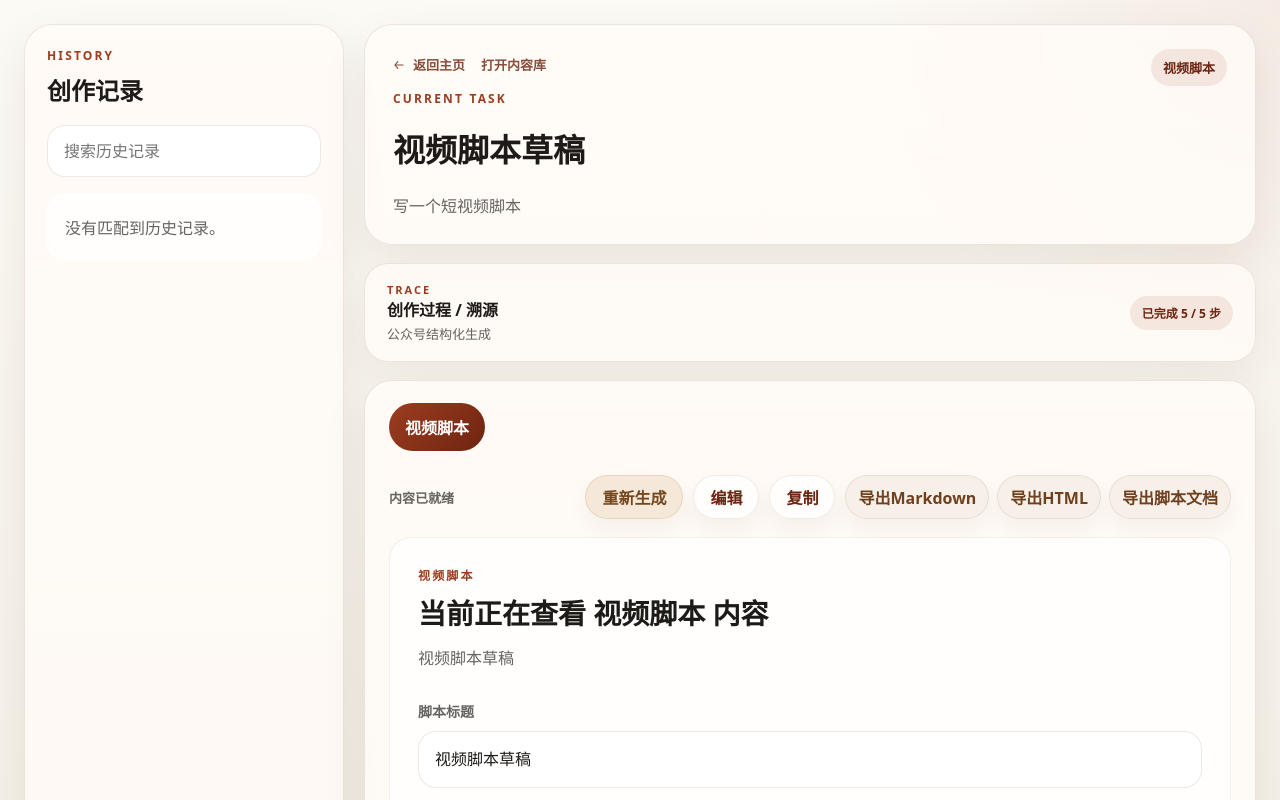
WorkspaceShell › copies video scripts as a table instead of JSON
The image size is (1280, 800).
Click the button "复制": click(802, 497) [770,475,836,519]
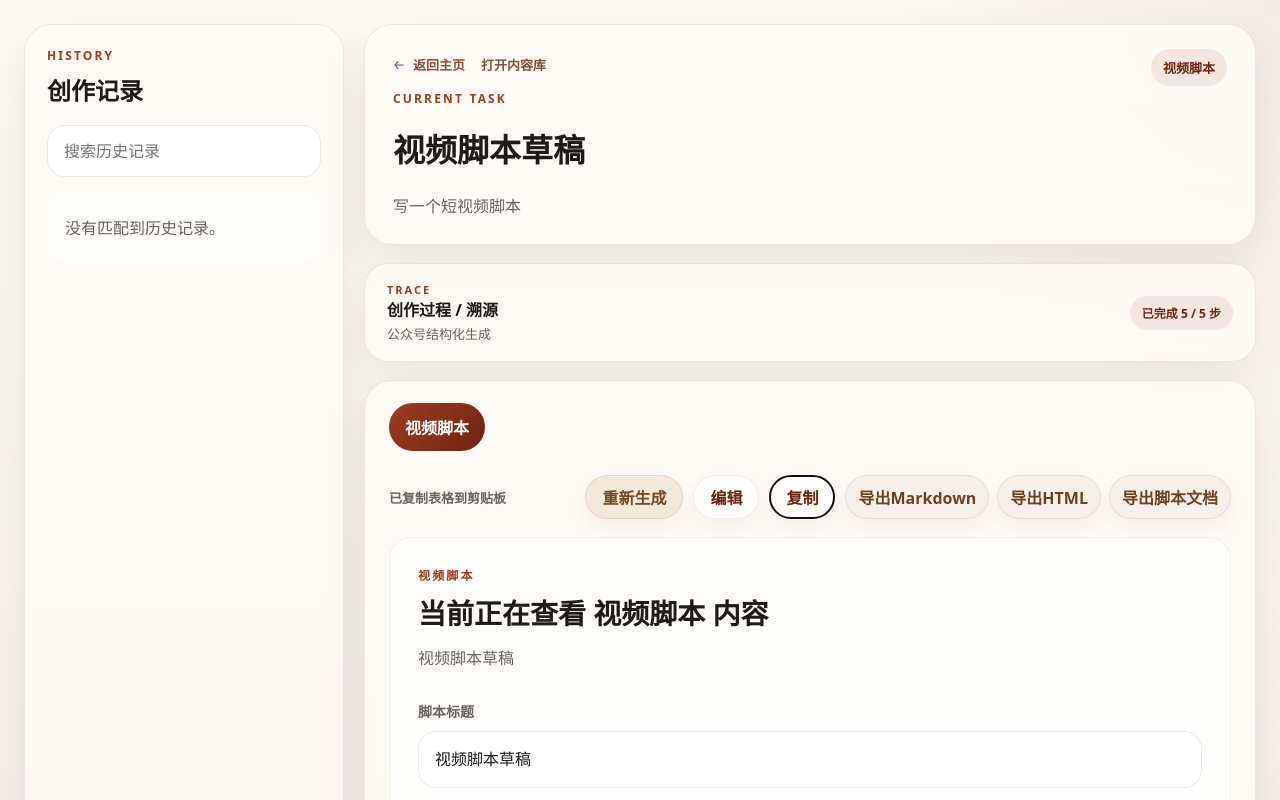
Expected: the text "已复制表格到剪贴板" is shown, [389,488,506,507]
